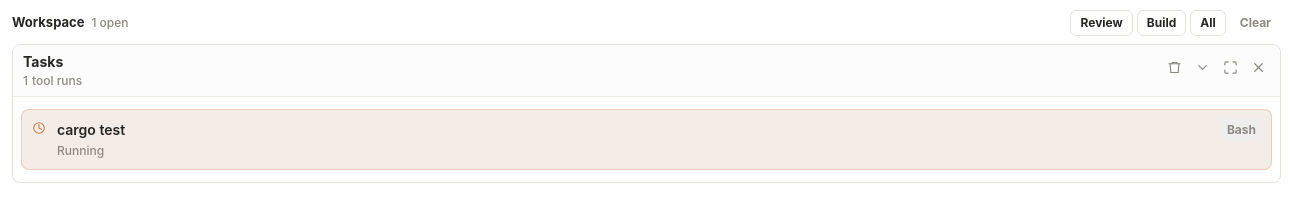
Test: AppWorkspaceRail › can collapse and expand individual panels
Expected: the text "cargo test" is shown, [57,121,125,138]
Click the button named "Collapse Tasks" at (1202, 67), box [1189,54,1215,80]
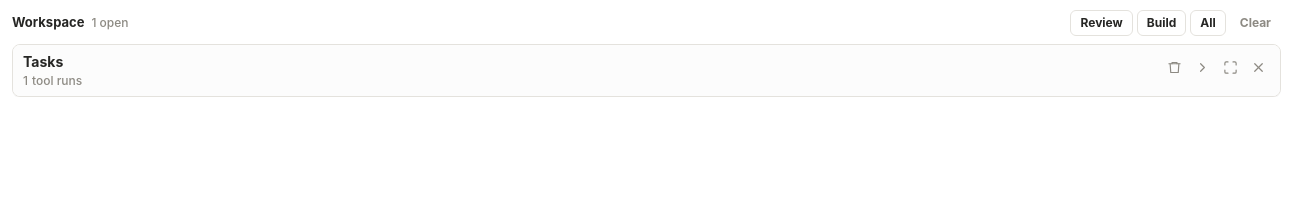
Expected: the heading "Tasks" is shown, [23,53,63,70]
Expected: the text "cargo test" is gone
Click the button named "Expand Tasks" at (1202, 67), box [1189,54,1215,80]
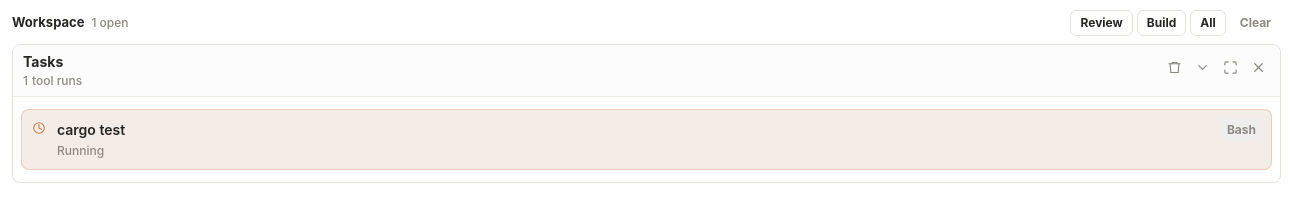
Expected: the text "cargo test" is shown, [57,121,125,138]
